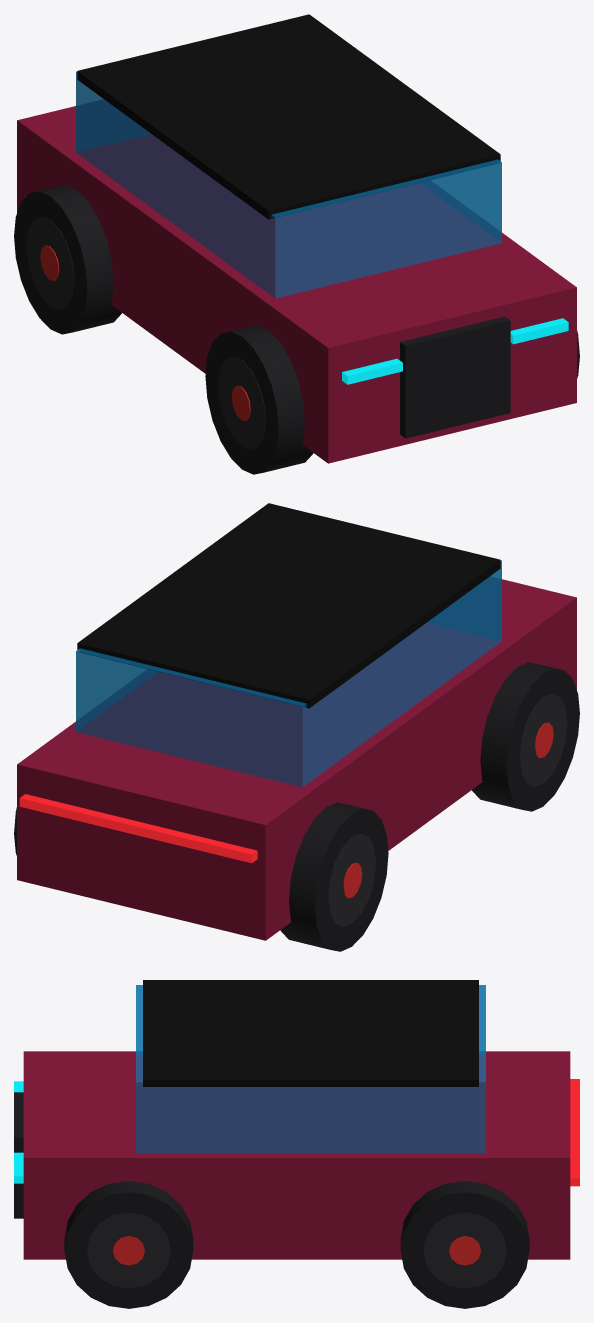
The model's file is bmw_ix.glb.
The picture shows the model from 3 angles, top to bottom: view 1: azimuth 30°, elevation 25°; view 2: azimuth 150°, elevation 25°; view 3: azimuth 270°, elevation 25°; orthographic projection. The views are drawn at different scales.
Size of the model in its own units: 0.5441 by 0.4183 by 1.
